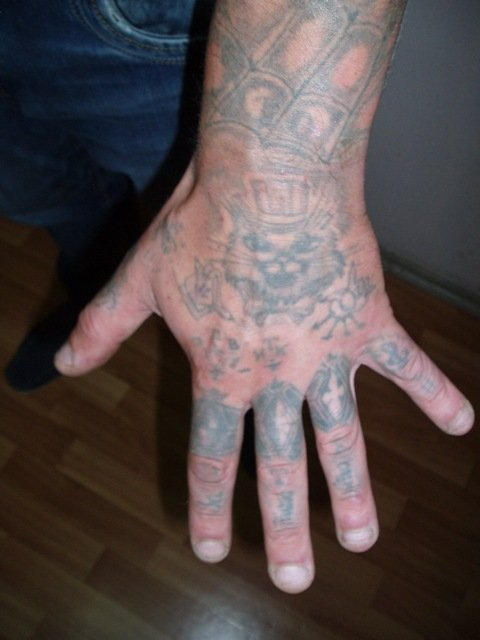tatu8_kot: (185, 168, 380, 333)
